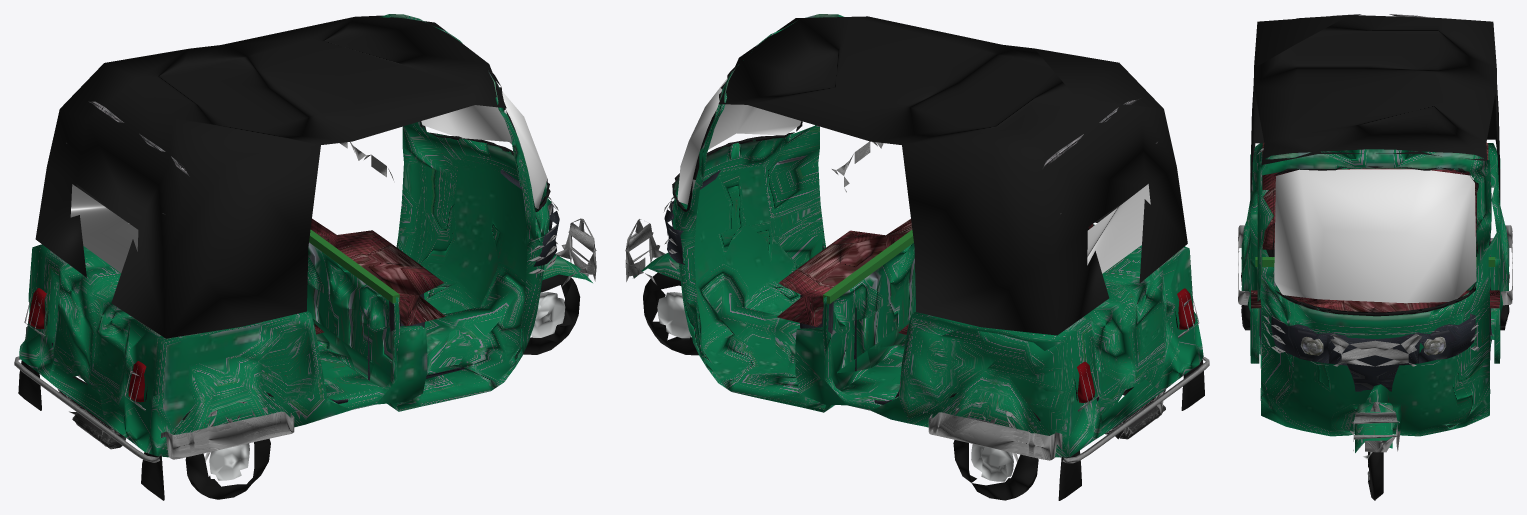
Rendered from cng.glb.
3 renders of one model, left to right at view 1: azimuth 30°, elevation 25°; view 2: azimuth 150°, elevation 25°; view 3: azimuth 270°, elevation 25°, orthographic. The views are drawn at different scales.
Visible parts, largest first — view 1: hood_Hood_0, rear mud guard_main base_0, Front bumper_Bumper and safety_0, front glass _glass_0, Seat_Seat_0, Tire_Tire_0, Rim_Rim_0, mud flap_Rubber flap_0, middle cube_green_0, engine cover support_Black plastic_0, back light_Material.001_0, exaust _Exaust_0; view 2: hood_Hood_0, rear mud guard_main base_0, front glass _glass_0, Front bumper_Bumper and safety_0, Seat_Seat_0, Tire_Tire_0, mud flap_Rubber flap_0, Rim_Rim_0, middle cube_green_0, back light_Material.001_0, engine cover support_Black plastic_0, exaust _Exaust_0; view 3: hood_Hood_0, rear mud guard_main base_0, front glass _glass_0, engine cover support_Black plastic_0, Front bumper_Bumper and safety_0, Seat_Seat_0, mud flap_Rubber flap_0, Tire_Tire_0, light_Material.003_0.
Part boxes in pixels (<box>): hood_Hood_0: <box>35,15,506,338</box>; rear mud guard_main base_0: <box>19,14,592,457</box>; Front bumper_Bumper and safety_0: <box>14,141,596,462</box>; front glass _glass_0: <box>70,91,547,272</box>; Seat_Seat_0: <box>310,218,445,334</box>; Tire_Tire_0: <box>72,274,580,499</box>; Rim_Rim_0: <box>209,292,565,480</box>; mud flap_Rubber flap_0: <box>18,73,550,500</box>; middle cube_green_0: <box>309,229,399,303</box>; engine cover support_Black plastic_0: <box>51,162,559,404</box>; back light_Material.001_0: <box>28,288,146,402</box>; exaust _Exaust_0: <box>58,389,126,449</box>; hood_Hood_0: <box>718,16,1187,335</box>; rear mud guard_main base_0: <box>634,14,1203,457</box>; front glass _glass_0: <box>677,78,1150,273</box>; Front bumper_Bumper and safety_0: <box>625,141,1209,463</box>; Seat_Seat_0: <box>777,219,1093,334</box>; Tire_Tire_0: <box>643,272,1133,500</box>; mud flap_Rubber flap_0: <box>672,67,1204,500</box>; Rim_Rim_0: <box>657,292,1013,481</box>; middle cube_green_0: <box>823,230,913,303</box>; back light_Material.001_0: <box>1077,288,1195,402</box>; engine cover support_Black plastic_0: <box>664,170,1098,404</box>; exaust _Exaust_0: <box>1105,389,1165,439</box>; hood_Hood_0: <box>1250,15,1500,206</box>; rear mud guard_main base_0: <box>1241,143,1509,452</box>; front glass _glass_0: <box>1274,169,1476,303</box>; engine cover support_Black plastic_0: <box>1259,147,1492,391</box>; Front bumper_Bumper and safety_0: <box>1238,144,1512,452</box>; Seat_Seat_0: <box>1251,142,1499,312</box>; mud flap_Rubber flap_0: <box>1249,166,1501,316</box>; Tire_Tire_0: <box>1241,257,1509,500</box>; light_Material.003_0: <box>1300,337,1446,355</box>.
Size of the model in its own units: 2.49 by 1.6 by 1.27.
Materials: 16 (8 with a texture image).
